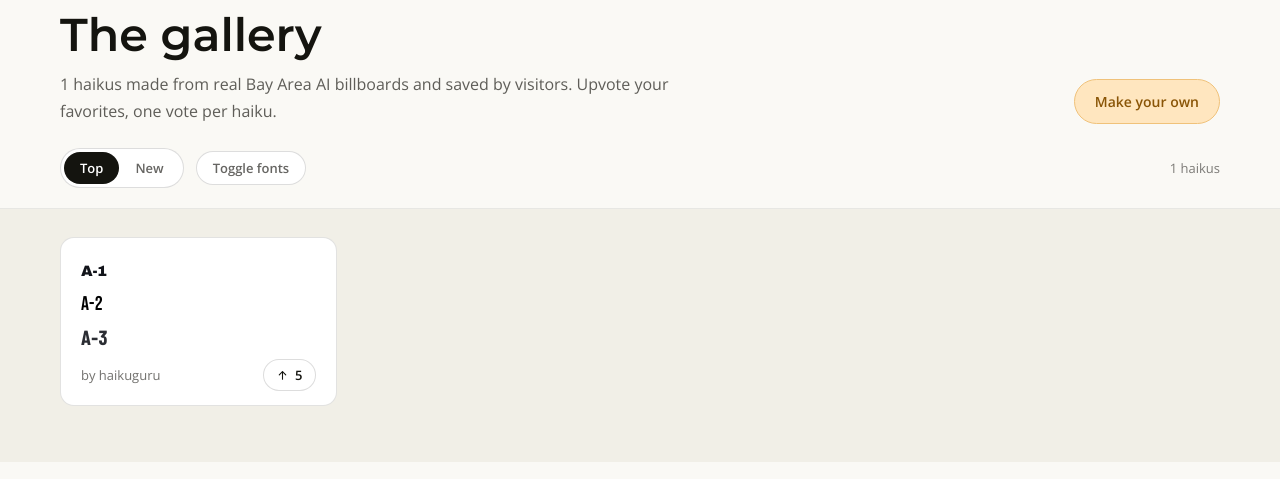
Test case: GalleryPage › refetches from the start when the sort changes
Expected: the text "a-1" is shown, x1=81 y1=263 x2=107 y2=279
Step 1. Click the button "New" → (150, 168), box x1=119 y1=152 x2=180 y2=184
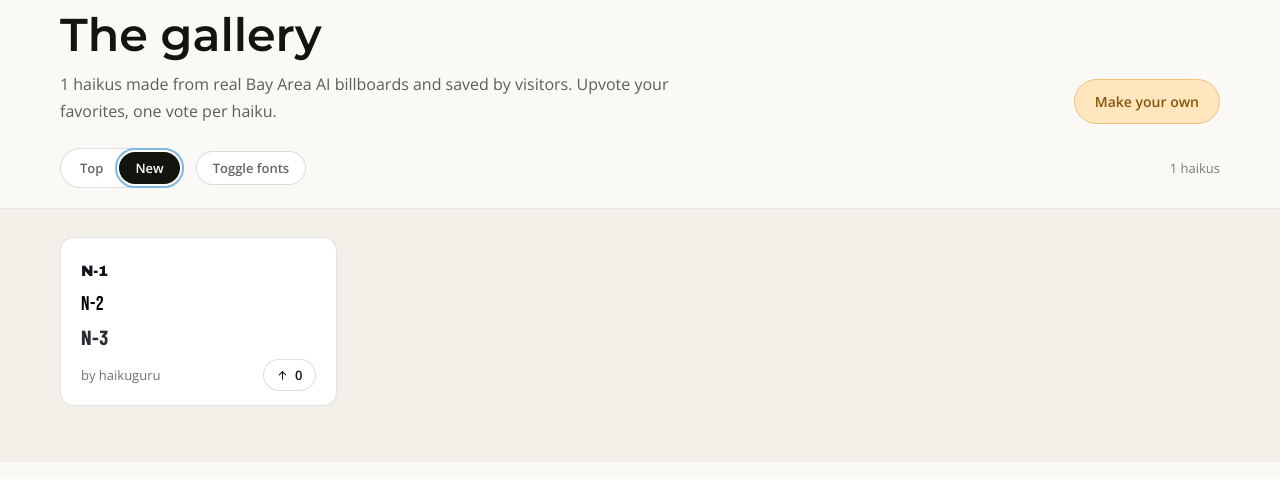
Expected: the text "n-1" is shown, x1=81 y1=263 x2=108 y2=279
Expected: the text "a-1" is gone
